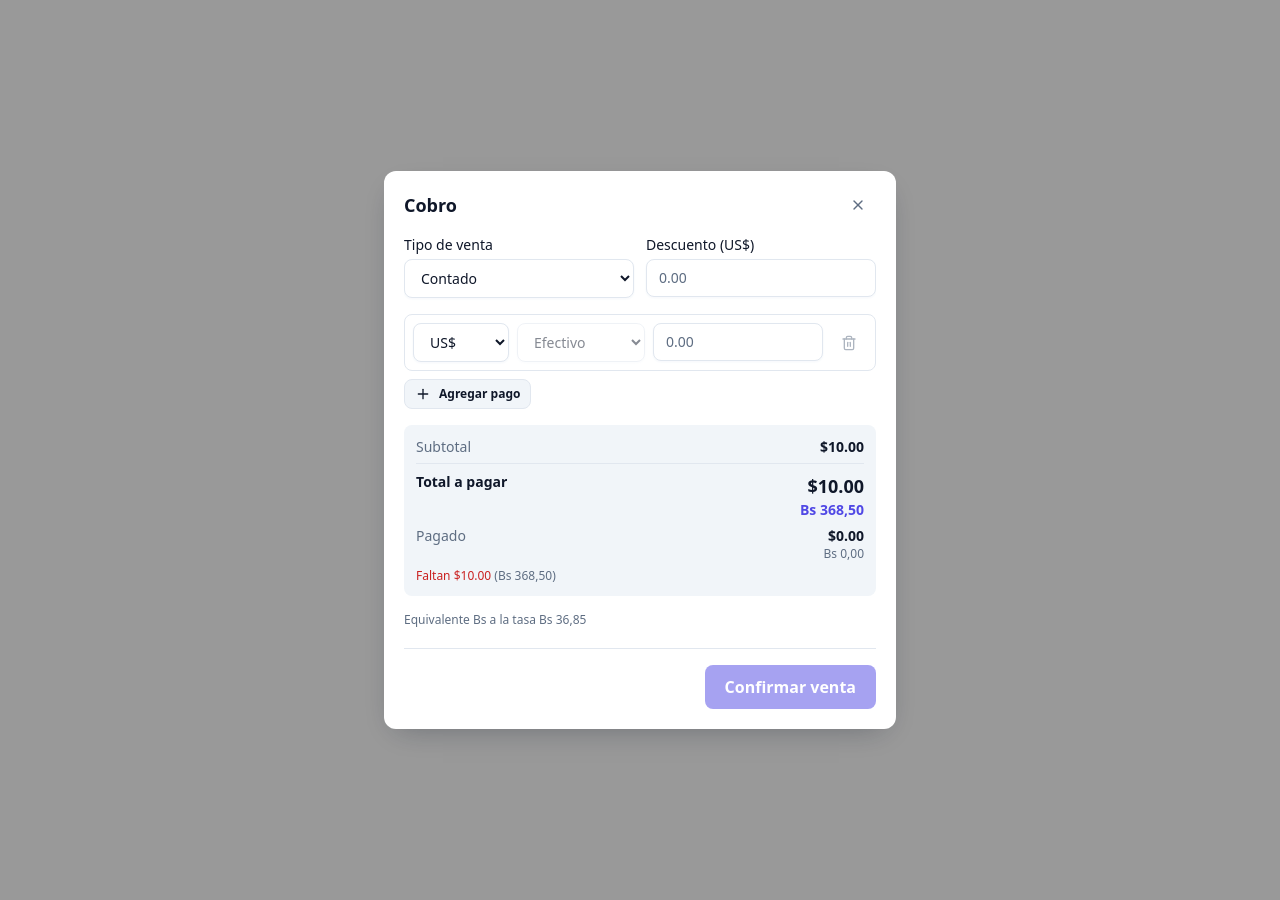
Test: CobroModal › no permite confirmar con pago insuficiente
This screenshot has width=1280, height=900.
Type "7" into the field named "Monto pago" at (738, 342), box x1=653 y1=323 x2=823 y2=361
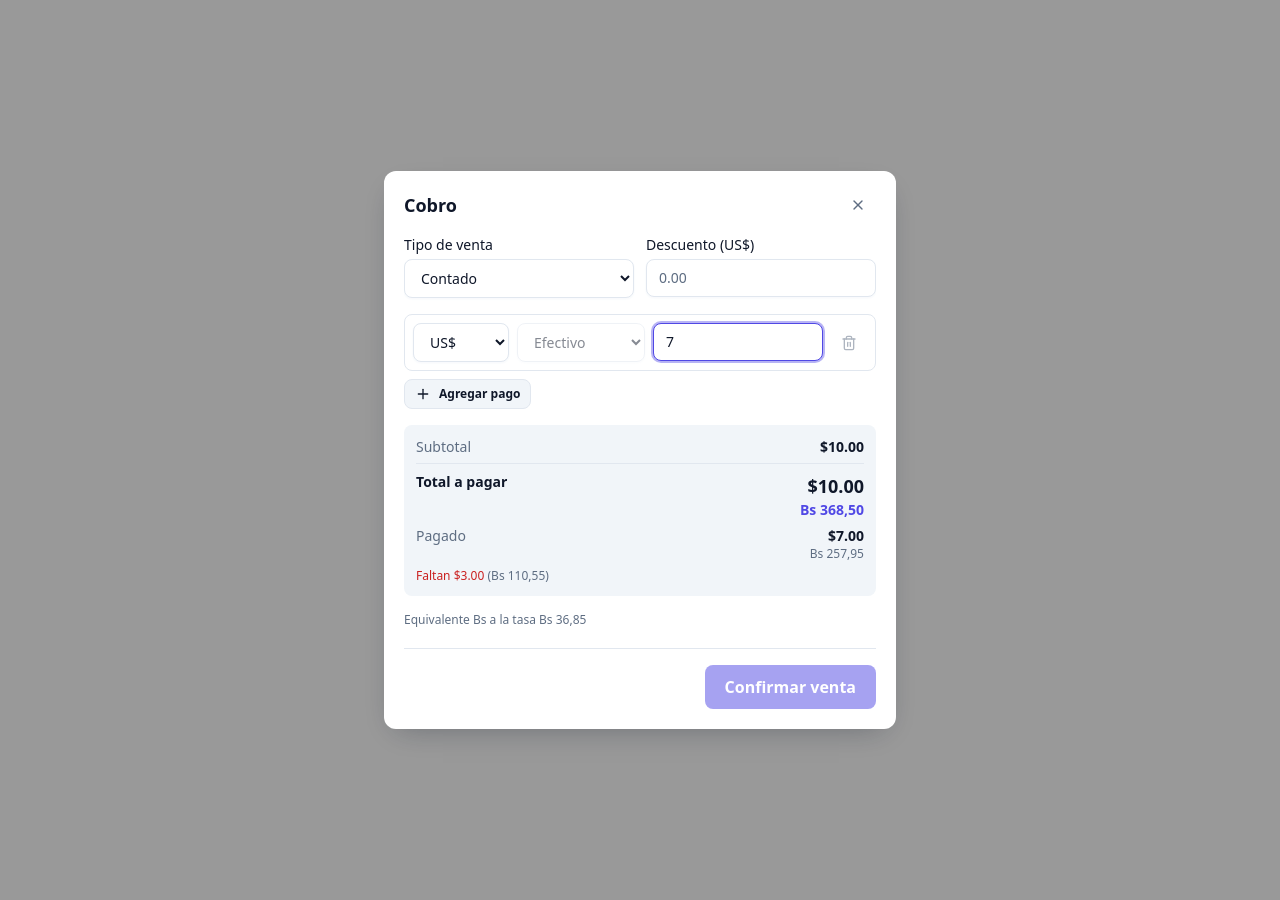
expect the button "Confirmar venta" is disabled: met, box x1=705 y1=665 x2=876 y2=709
expect the text "Faltan $3.00 (Bs 110,55)" is shown: met, box x1=416 y1=567 x2=549 y2=584
